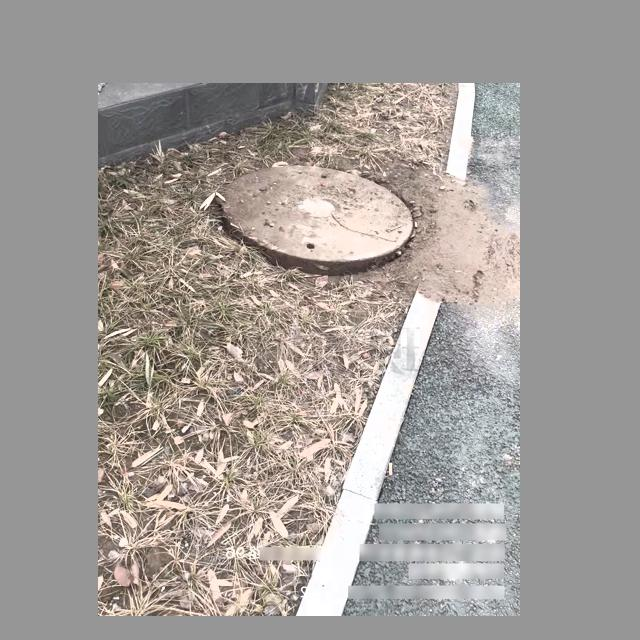uncovered: (221, 165, 415, 278)
